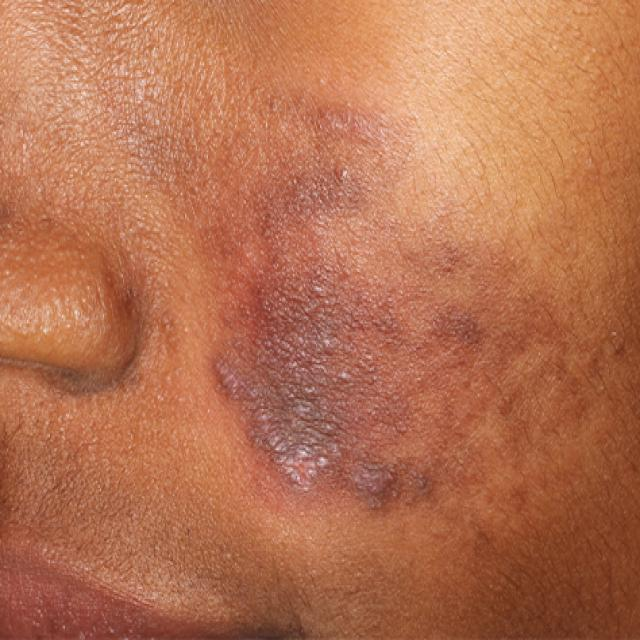lupus: (186, 106, 599, 540)
